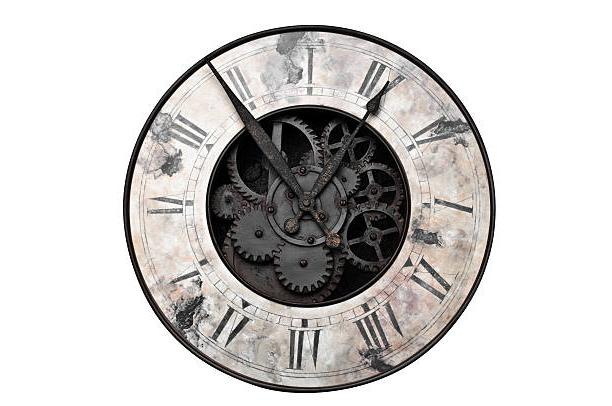clock: (117, 19, 501, 406)
